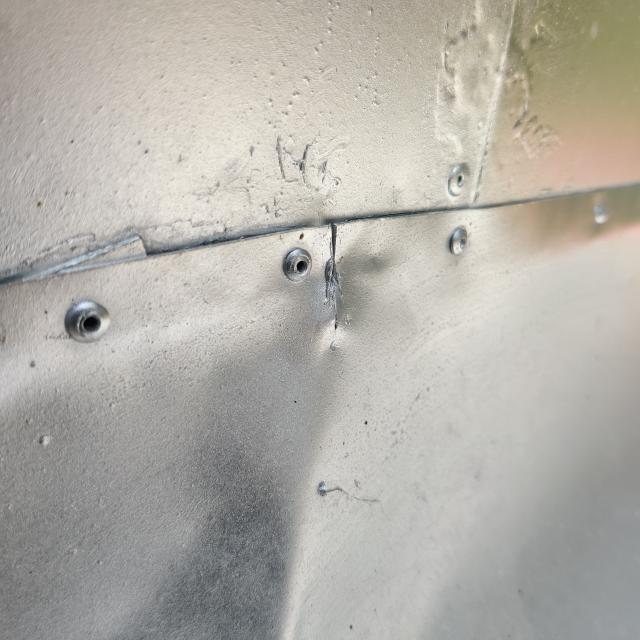crack: (292, 203, 382, 339)
dent: (90, 241, 427, 640)
